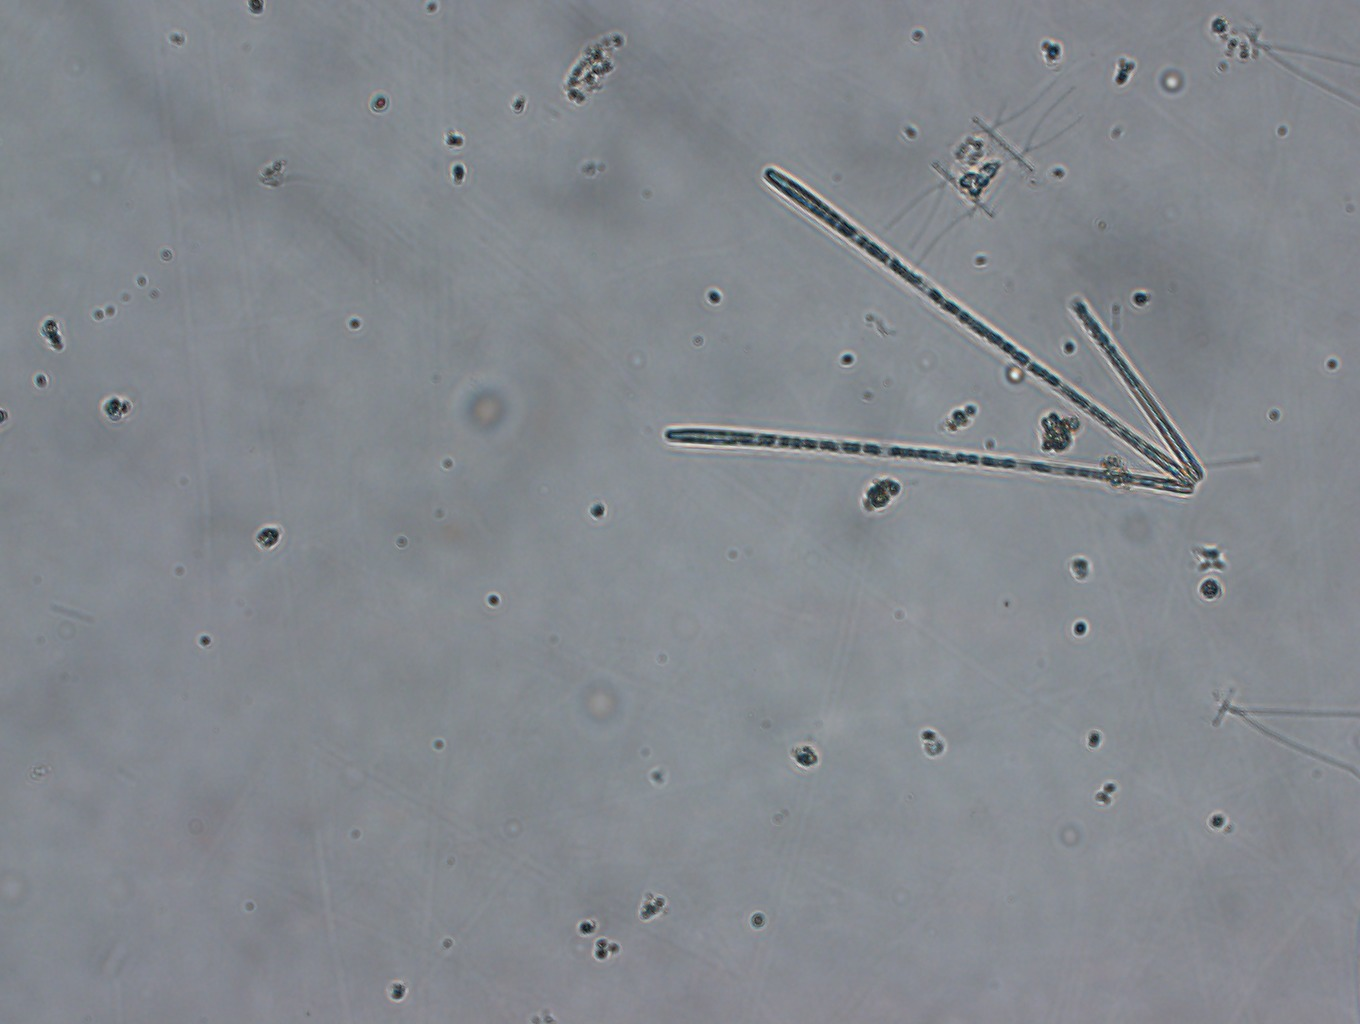chaetoceros: (885, 77, 1091, 269), (1204, 678, 1360, 780), (1219, 16, 1360, 106)
thalassionema frauenfeldii: (663, 160, 1213, 500)
